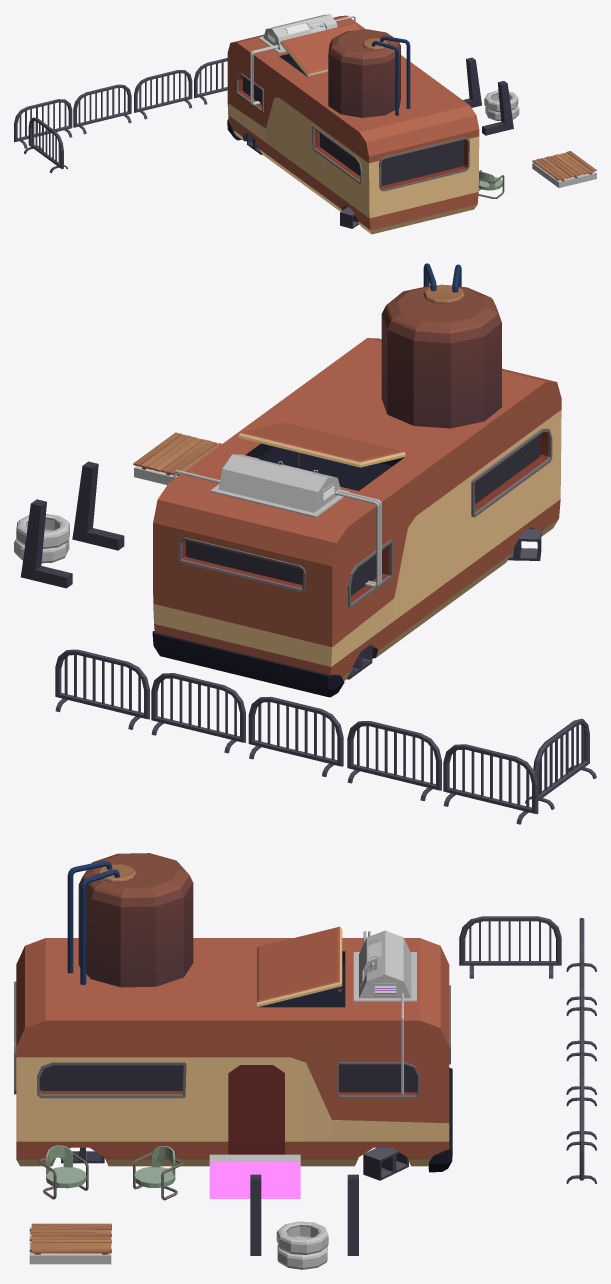
Rendered from CMDayNiteGoRooftopTrailer.fbx.
The picture shows the model from 3 angles, top to bottom: view 1: azimuth 30°, elevation 25°; view 2: azimuth 150°, elevation 25°; view 3: azimuth 270°, elevation 25°; orthographic projection. The views are drawn at different scales.
Visible parts, largest first — view 1: Trailer_Body.003, Trailer_Lid.003, Trailer_MORPGenerator.002, ConcreteSlab.003, Buckle_Single.009, FK_Fence.017, FK_Fence.015, FK_Fence.016, FK_Fence.018, FK_Fence.001, Tirestack.006, Chairs.007; view 2: Trailer_Body.003, Trailer_MORPGenerator.002, Buckle_Single.009, Trailer_Lid.003, FK_Fence.015, FK_Fence.016, FK_Fence.013, FK_Fence.001, FK_Fence.017, ConcreteSlab.003, FK_Fence.018, Tirestack.006; view 3: Trailer_Body.003, Trailer_Lid.003, Trailer_Door.003, Trailer_MORPGenerator.002, ConcreteSlab.003, Stair Ramp, FK_Fence.018, Tirestack.006, Buckle_Single.009, Chairs.007, Chairs, Trailer_Steps.003 (+1 smaller).
Part boxes in pixels (left/top/right/bottom): Trailer_Body.003: left=227, top=15, right=479, bottom=234; Trailer_Lid.003: left=280, top=23, right=360, bottom=76; Trailer_MORPGenerator.002: left=250, top=14, right=355, bottom=104; ConcreteSlab.003: left=532, top=151, right=596, bottom=187; Buckle_Single.009: left=463, top=57, right=513, bottom=135; FK_Fence.017: left=73, top=84, right=131, bottom=134; FK_Fence.015: left=134, top=70, right=192, bottom=119; FK_Fence.016: left=14, top=99, right=72, bottom=148; FK_Fence.018: left=24, top=117, right=67, bottom=173; FK_Fence.001: left=194, top=58, right=227, bottom=104; Tirestack.006: left=484, top=90, right=519, bottom=120; Chairs.007: left=478, top=170, right=504, bottom=198; Trailer_Body.003: left=152, top=263, right=561, bottom=697; Trailer_MORPGenerator.002: left=173, top=454, right=381, bottom=587; Buckle_Single.009: left=20, top=461, right=124, bottom=588; Trailer_Lid.003: left=238, top=422, right=405, bottom=467; FK_Fence.015: left=248, top=696, right=343, bottom=776; FK_Fence.016: left=443, top=744, right=538, bottom=824; FK_Fence.013: left=55, top=649, right=149, bottom=729; FK_Fence.001: left=151, top=673, right=245, bottom=753; FK_Fence.017: left=347, top=721, right=441, bottom=800; ConcreteSlab.003: left=133, top=432, right=221, bottom=484; FK_Fence.018: left=525, top=718, right=596, bottom=809; Tirestack.006: left=14, top=513, right=69, bottom=563; Trailer_Body.003: left=14, top=853, right=452, bottom=1180; Trailer_Lid.003: left=256, top=926, right=342, bottom=1007; Trailer_Door.003: left=228, top=1065, right=284, bottom=1154; Trailer_MORPGenerator.002: left=353, top=930, right=416, bottom=1095; ConcreteSlab.003: left=29, top=1223, right=111, bottom=1264; Stair Ramp: left=209, top=1162, right=300, bottom=1198; FK_Fence.018: left=459, top=916, right=561, bottom=978; Tirestack.006: left=276, top=1221, right=328, bottom=1269; Buckle_Single.009: left=250, top=1174, right=358, bottom=1255; Chairs.007: left=38, top=1145, right=88, bottom=1199; Chairs: left=133, top=1146, right=183, bottom=1200; Trailer_Steps.003: left=209, top=1154, right=300, bottom=1161.
Size of the model in its own units: 2777 by 1093 by 2224.
